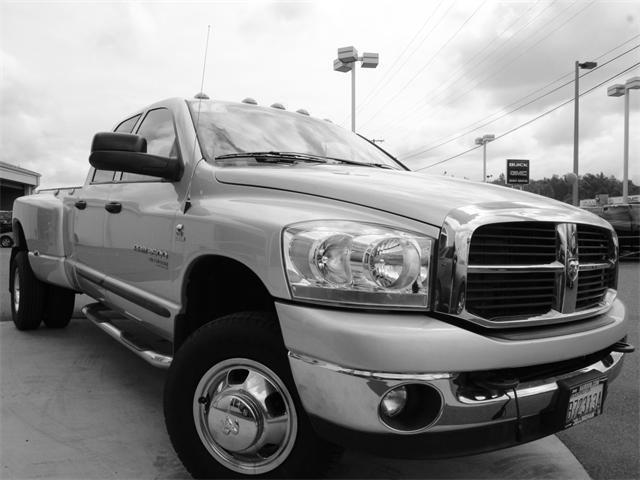car: (7, 93, 639, 479)
